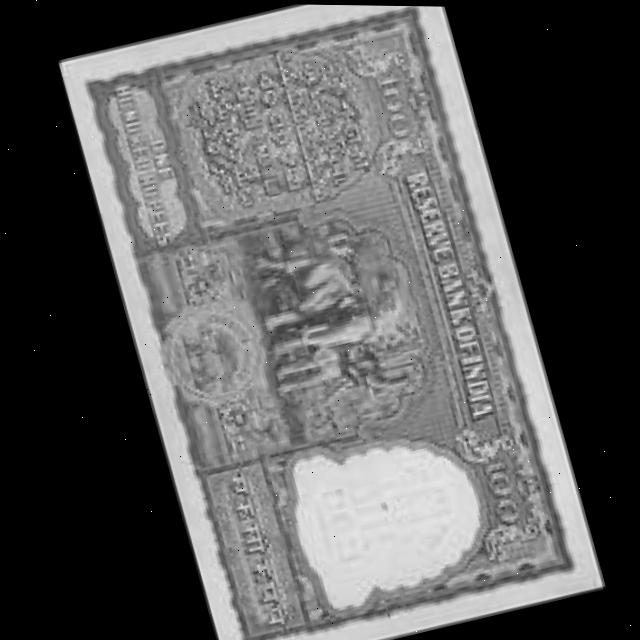banknote: (54, 1, 605, 640)
